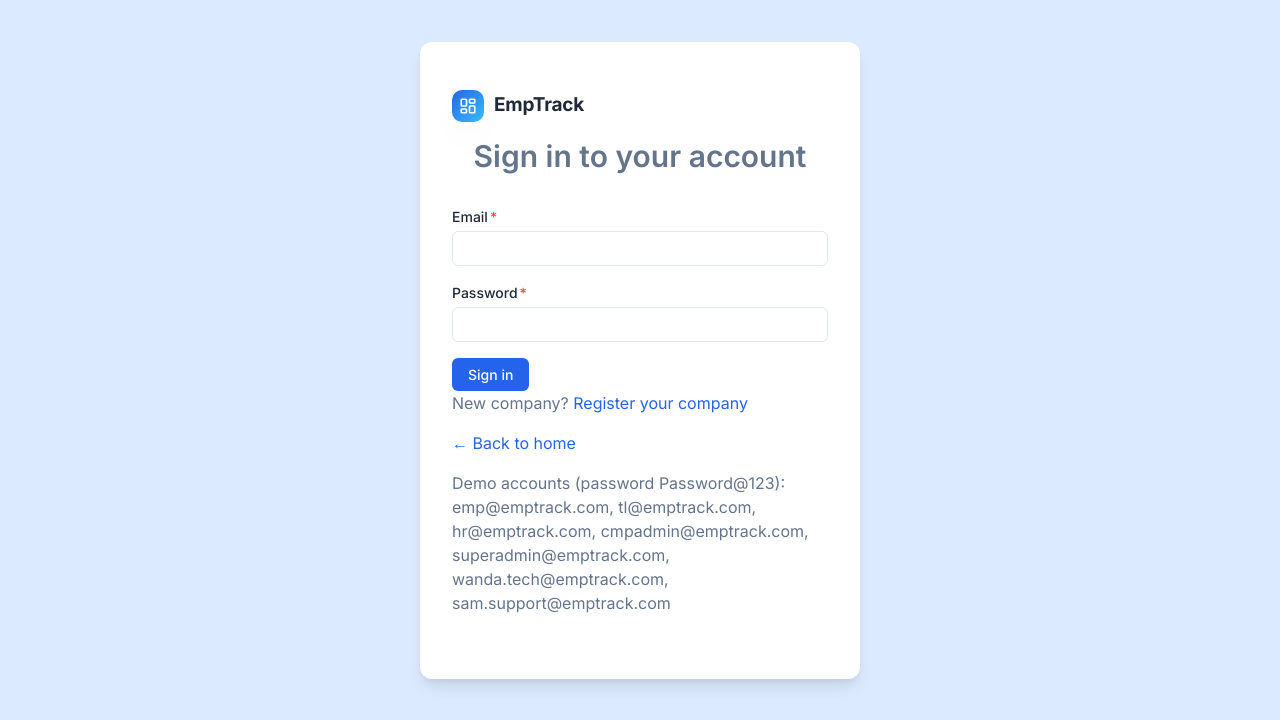
protected URLs without a session › returns to the originally requested page after logging in
In the field labelled "Email*": point(640, 248) 452,230 -> 828,266, type "emp@emptrack.com"
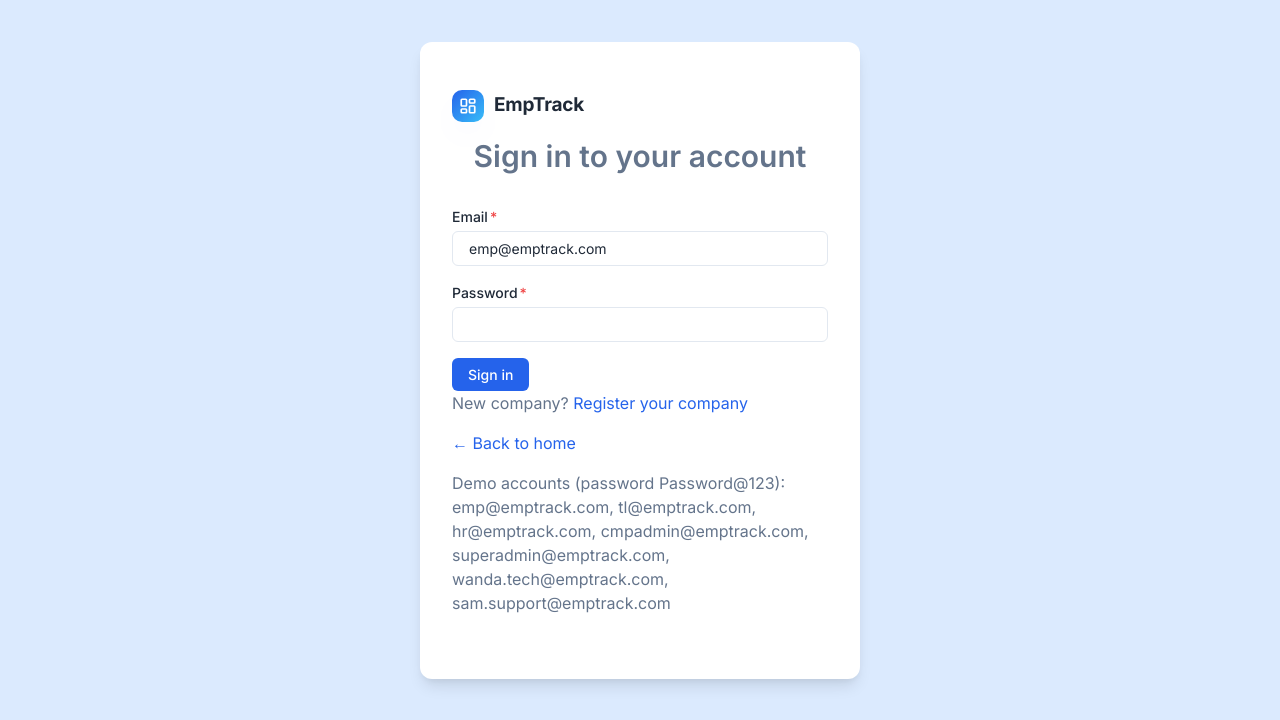
In the password field labelled "Password*": point(640, 324) 452,306 -> 828,342, type "Password@123"
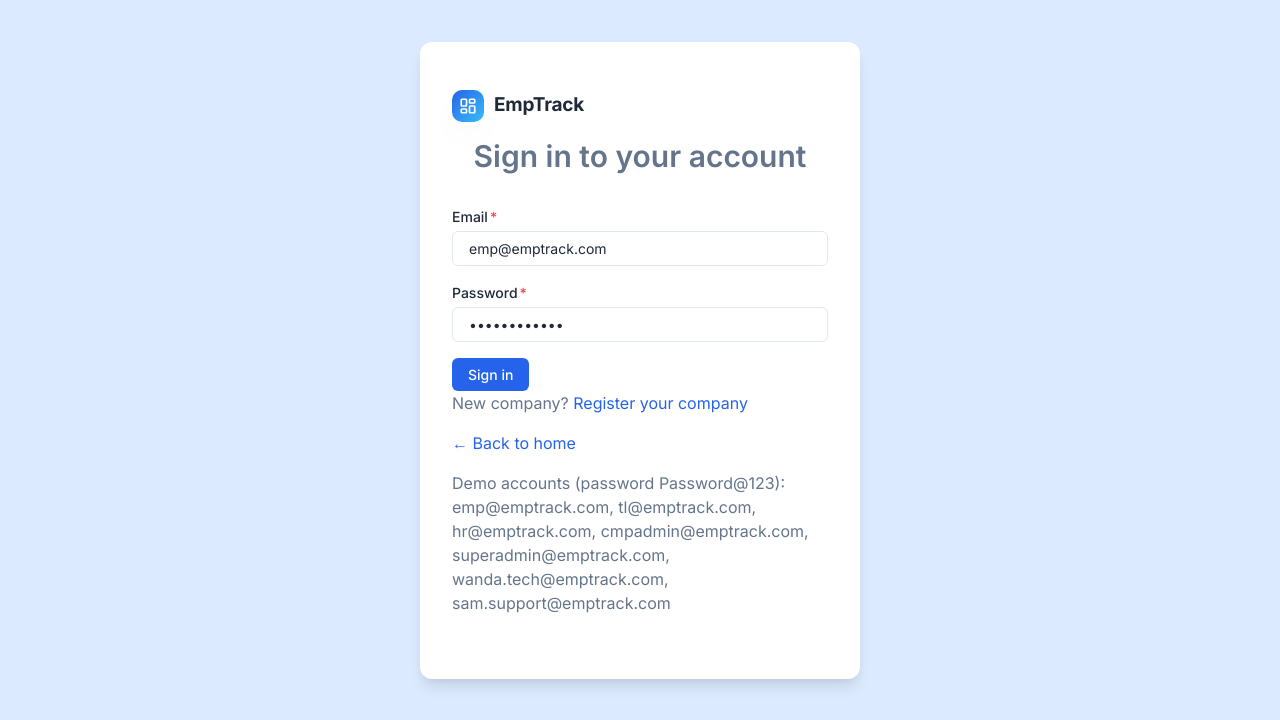
Click the button "Sign in": point(491, 374) 452,358 -> 529,390
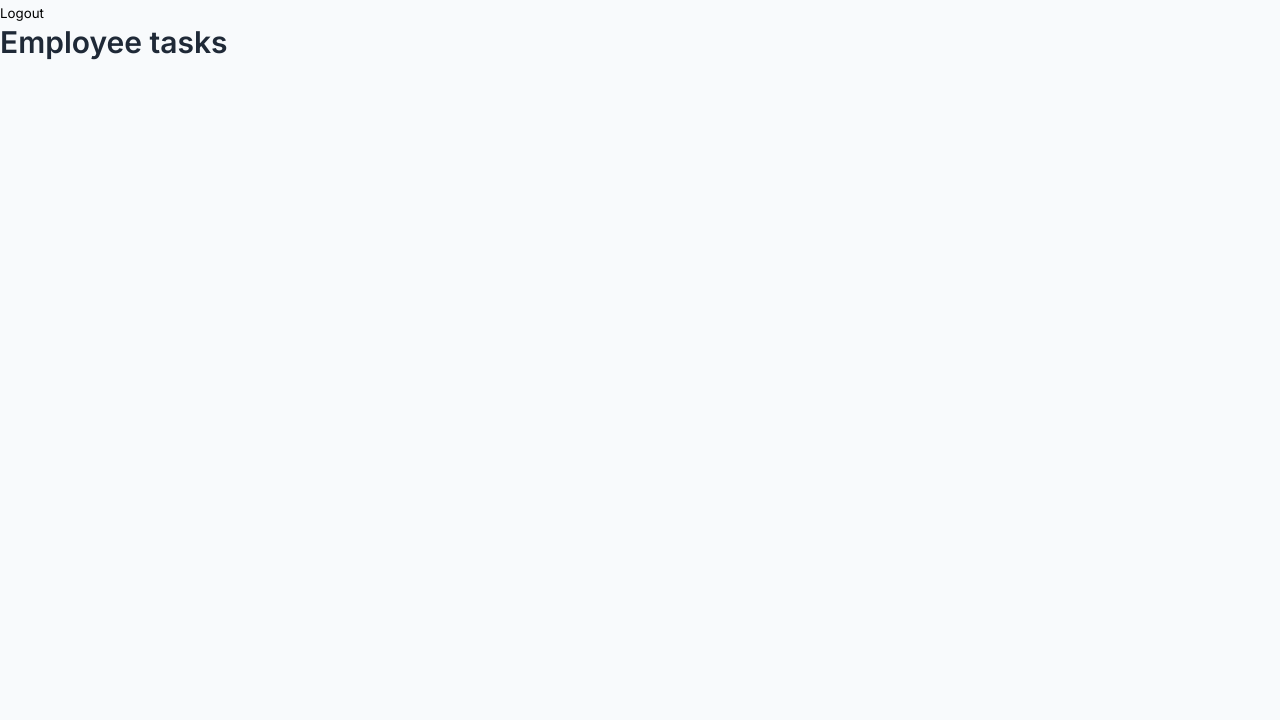
Expected: the heading "Employee tasks" is shown, 0,24 -> 228,60
